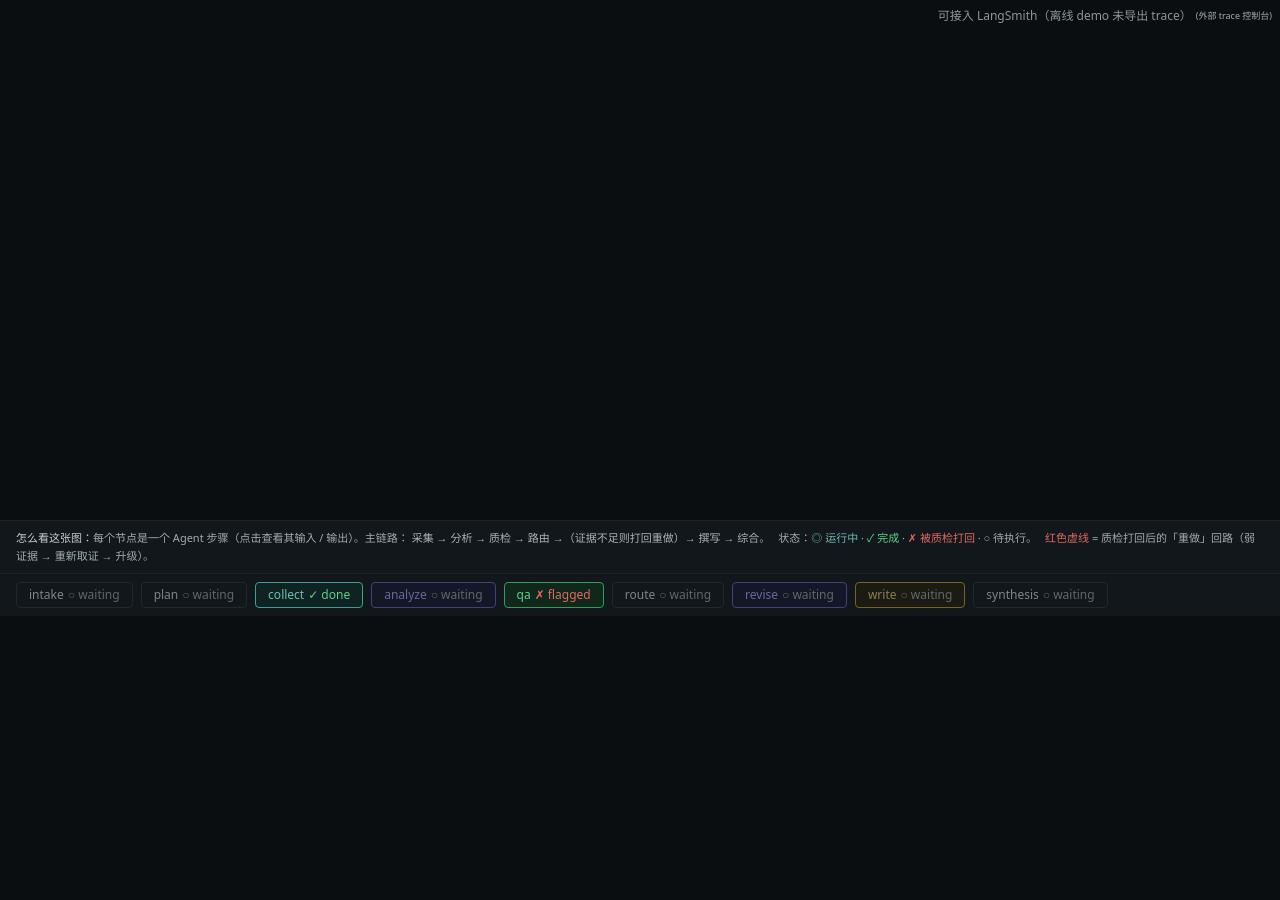
Test: ExecutionTrace component › clicking a node button opens the detail panel
The image size is (1280, 900).
// Click 'collect' node button
Click the button with test id "node-btn-collect". click: (309, 595)
box: [255,582,363,608]
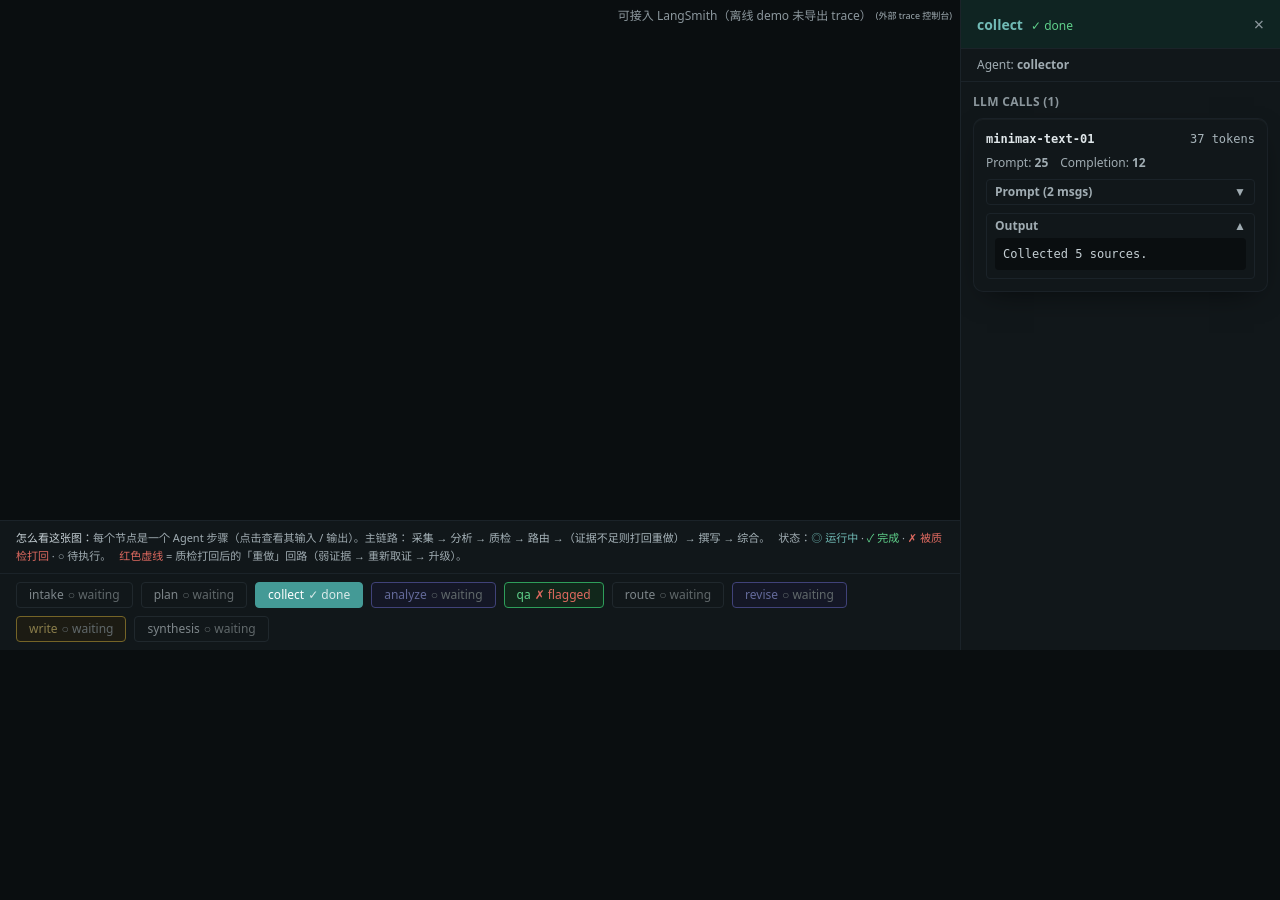
expect the element with test id "node-detail-panel" is shown: met, box [960,0,1279,650]
